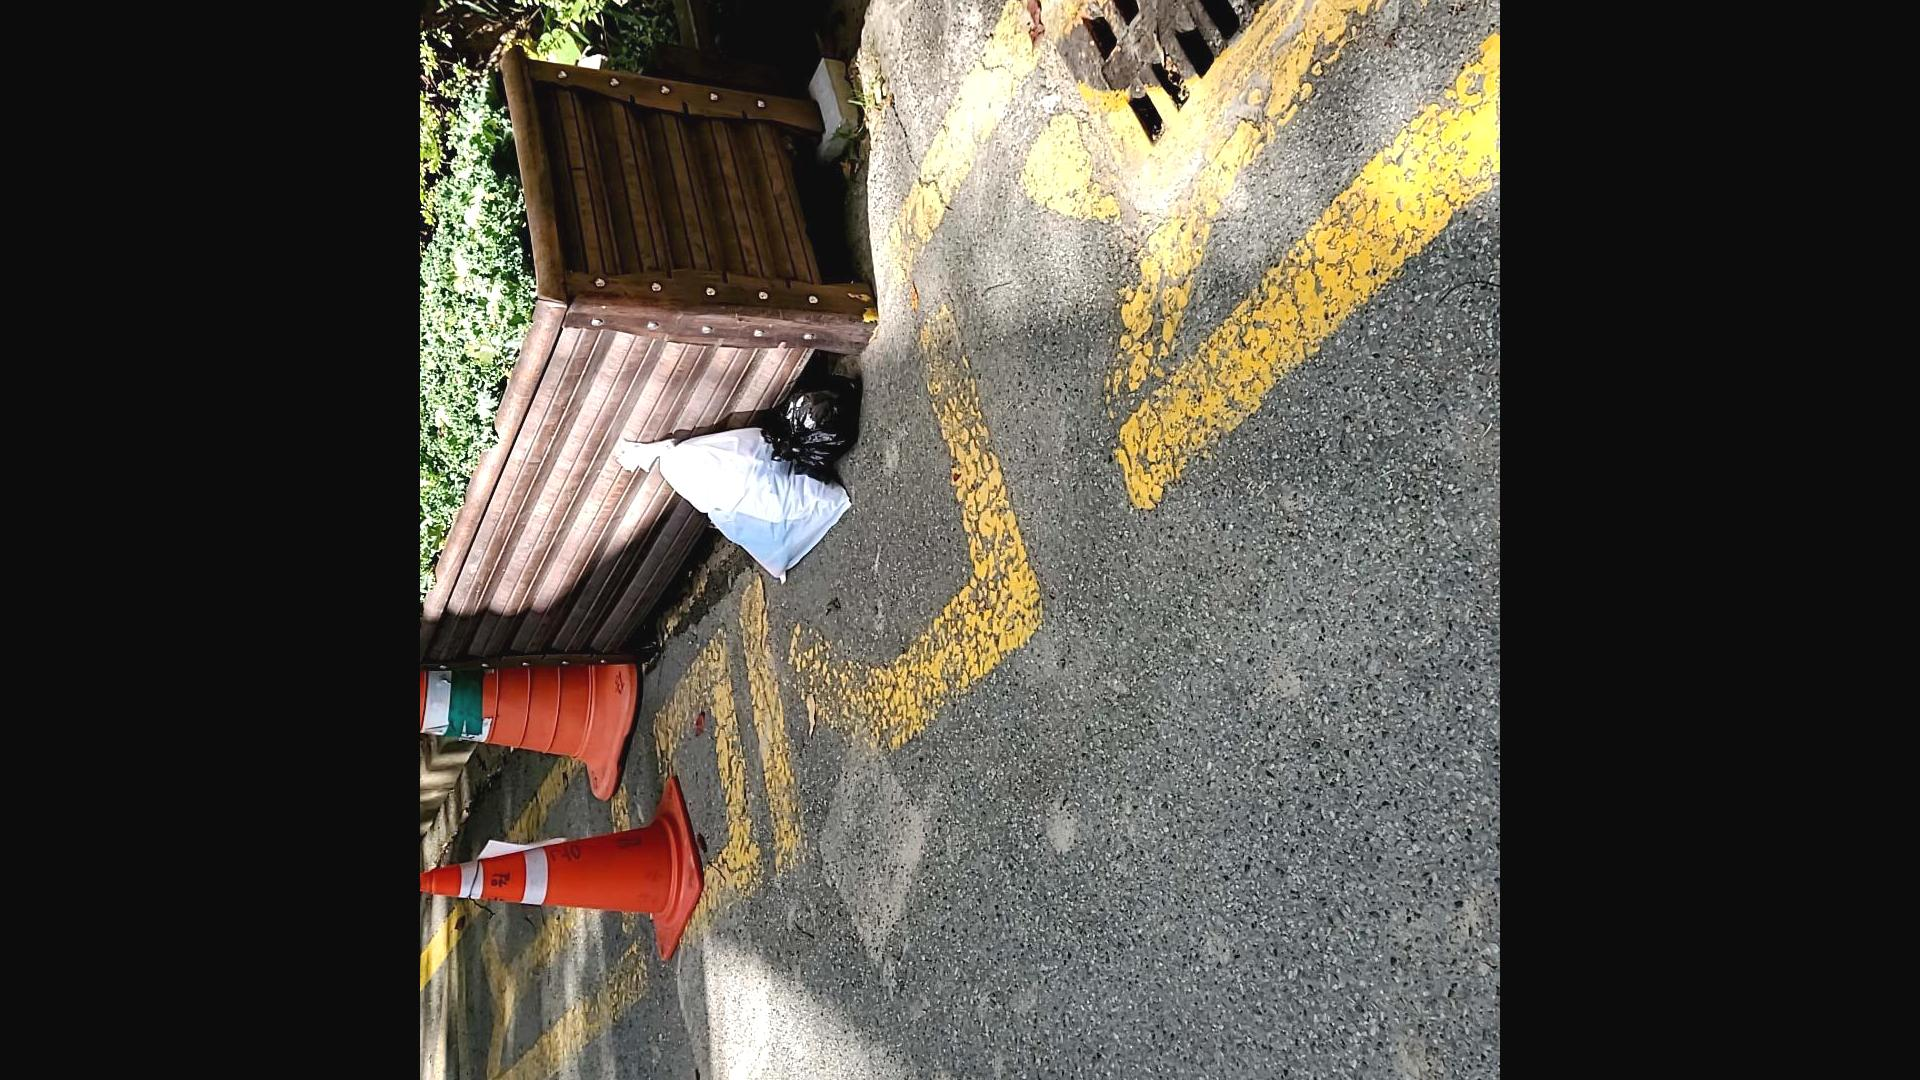black_bag: (756, 376, 874, 484)
white_bag: (587, 417, 868, 591)
